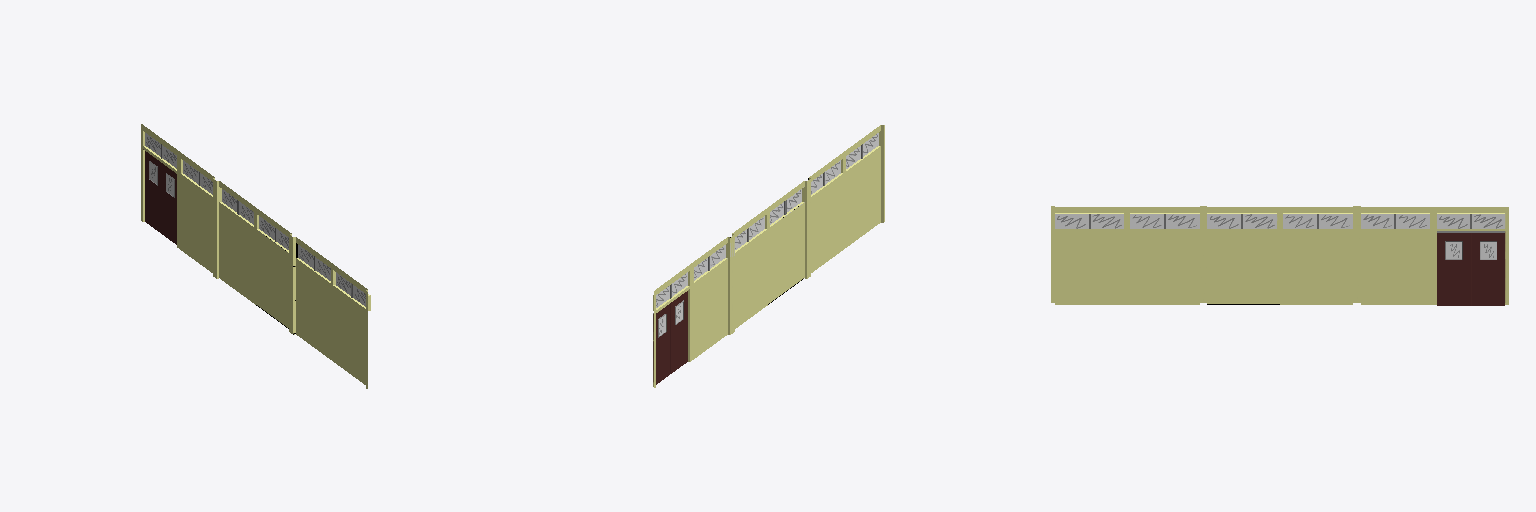
The picture shows the model from 3 angles: view 1: azimuth 30°, elevation 25°; view 2: azimuth 150°, elevation 25°; view 3: azimuth 270°, elevation 25°; orthographic projection.
Visible parts, largest first — view 1: rightwall_uno; view 2: rightwall_uno; view 3: rightwall_uno.
Part boxes in pixels (x1,y1,x2,y2): rightwall_uno: (141, 124, 370, 388); rightwall_uno: (653, 125, 884, 387); rightwall_uno: (1051, 206, 1508, 305).
Size of the model in its own units: 0.1195 by 1.94 by 8.25.
1 materials, 1 textured.